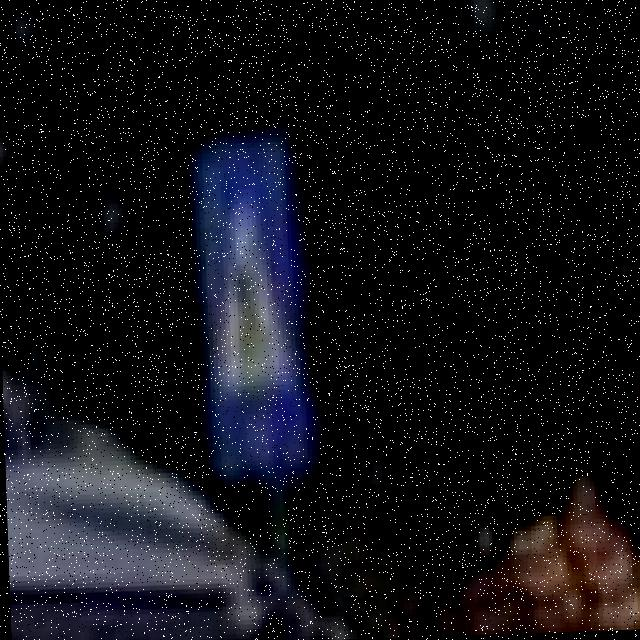Przejscie dla pieszych: (188, 140, 322, 477)
